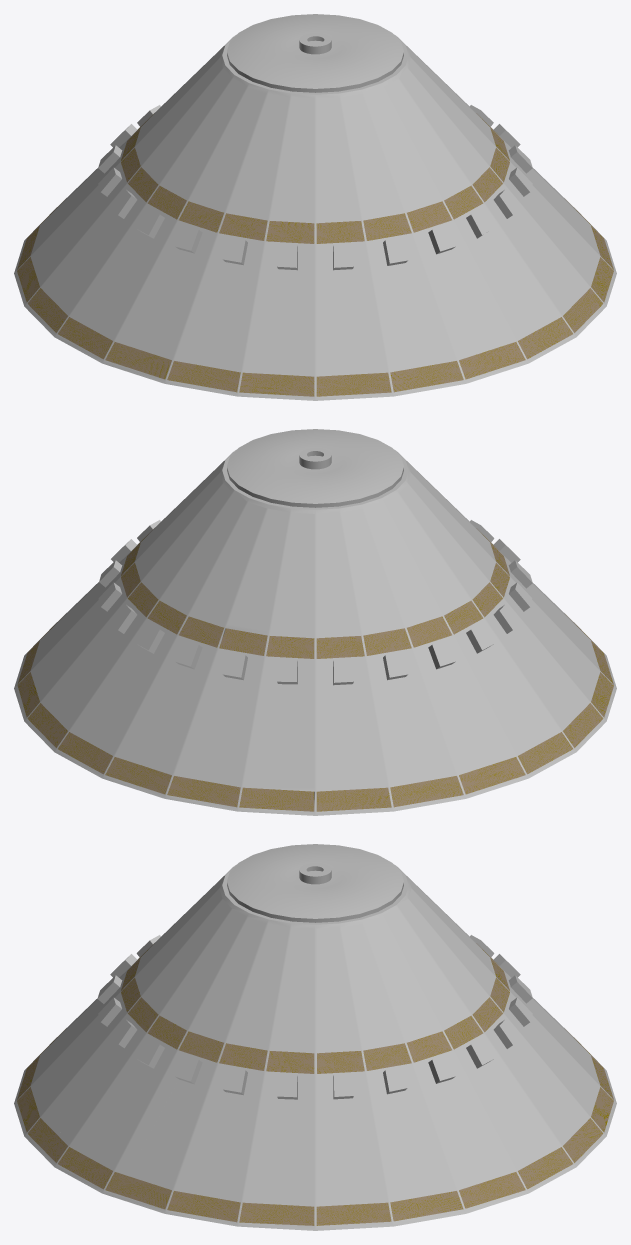
Rendered from head.dae.
The picture shows the model from 3 angles, top to bottom: view 1: azimuth 30°, elevation 25°; view 2: azimuth 150°, elevation 25°; view 3: azimuth 270°, elevation 25°; orthographic projection.
Visible parts, largest first — view 1: instance_0_003, instance_0_014, instance_0_069, instance_0_070, instance_0_060, instance_0_076, instance_0_048, instance_0_077, instance_0_051, instance_0_083, instance_0_054, instance_0_084 (+77 smaller); view 2: instance_0_003, instance_0_014, instance_0_058, instance_0_061, instance_0_032, instance_0_043, instance_0_044, instance_0_053, instance_0_054, instance_0_036, instance_0_019, instance_0_051 (+77 smaller); view 3: instance_0_003, instance_0_014, instance_0_096, instance_0_097, instance_0_202, instance_0_194, instance_0_089, instance_0_204, instance_0_019, instance_0_084, instance_0_083, instance_0_036 (+76 smaller).
Part boxes in pixels (bbox=[...]): instance_0_003: bbox=[14, 34, 616, 400]; instance_0_014: bbox=[227, 14, 403, 92]; instance_0_069: bbox=[270, 97, 314, 218]; instance_0_070: bbox=[316, 97, 360, 218]; instance_0_060: bbox=[227, 93, 289, 216]; instance_0_076: bbox=[341, 93, 403, 216]; instance_0_048: bbox=[190, 87, 266, 208]; instance_0_077: bbox=[364, 87, 440, 208]; instance_0_051: bbox=[162, 79, 246, 196]; instance_0_083: bbox=[384, 79, 468, 196]; instance_0_054: bbox=[144, 69, 231, 180]; instance_0_084: bbox=[399, 69, 486, 180]; instance_0_003: bbox=[14, 449, 616, 815]; instance_0_014: bbox=[227, 429, 403, 507]; instance_0_058: bbox=[270, 512, 314, 633]; instance_0_061: bbox=[316, 512, 360, 633]; instance_0_032: bbox=[227, 508, 289, 631]; instance_0_043: bbox=[341, 508, 403, 631]; instance_0_044: bbox=[364, 502, 440, 623]; instance_0_053: bbox=[191, 502, 266, 623]; instance_0_054: bbox=[384, 494, 468, 611]; instance_0_036: bbox=[162, 494, 246, 611]; instance_0_019: bbox=[144, 484, 231, 595]; instance_0_051: bbox=[399, 484, 486, 595]; instance_0_003: bbox=[14, 864, 616, 1230]; instance_0_014: bbox=[227, 844, 403, 922]; instance_0_096: bbox=[270, 927, 314, 1048]; instance_0_097: bbox=[317, 927, 360, 1048]; instance_0_202: bbox=[227, 923, 289, 1046]; instance_0_194: bbox=[341, 923, 402, 1046]; instance_0_089: bbox=[190, 917, 266, 1038]; instance_0_204: bbox=[364, 917, 440, 1038]; instance_0_019: bbox=[384, 909, 468, 1026]; instance_0_084: bbox=[162, 909, 246, 1026]; instance_0_083: bbox=[144, 899, 231, 1010]; instance_0_036: bbox=[399, 899, 486, 1010].
Bounding box in the file's own units: 0.4454 × 0.4454 × 0.2096.
